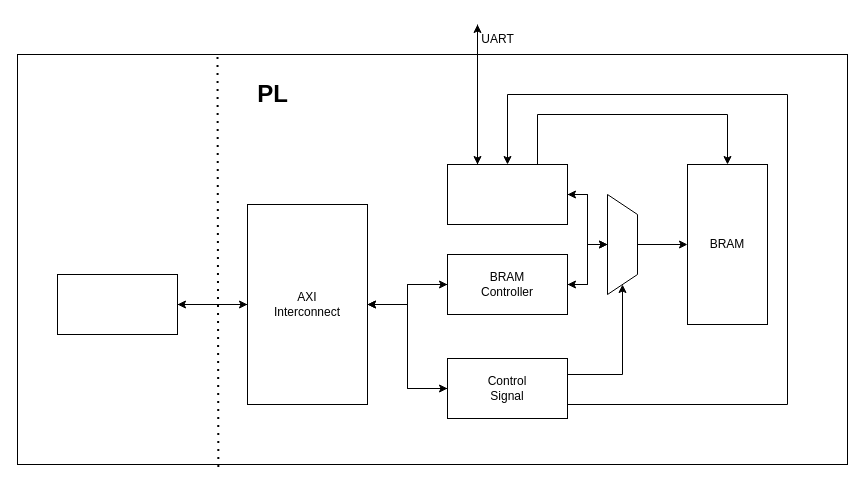
Some shapes in this 865 by 486 pixel diagram are drawn without their labels. Each missing label, with the centre of its shape:
"Hubris" goes at [507,194].
"PS" goes at [117,304].
